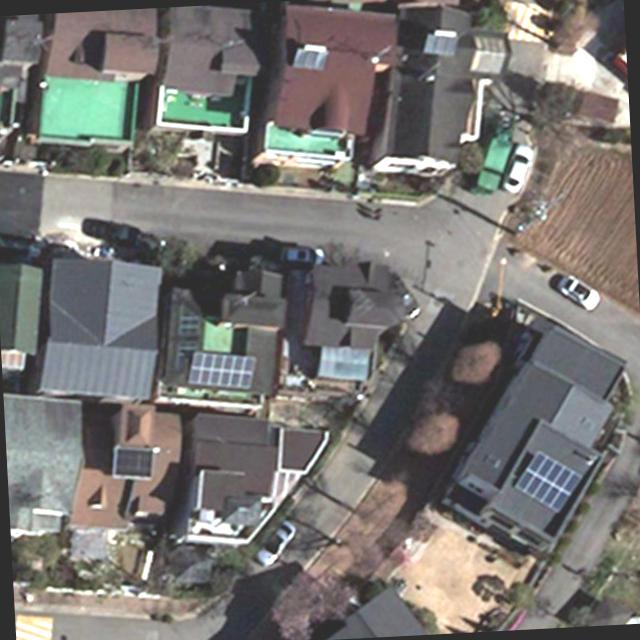solar: (512, 446, 586, 518), (184, 346, 260, 394), (289, 39, 333, 75), (422, 25, 462, 59)
